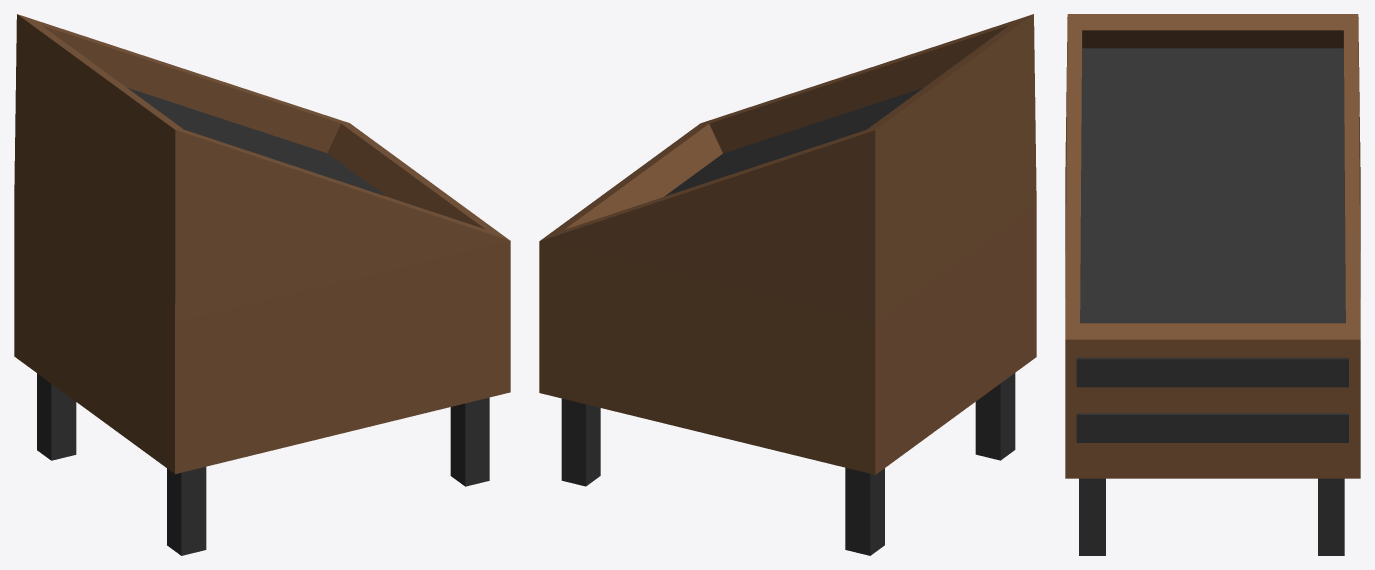
The model's file is S.FruitVegStand 1.fbx.
3 renders of one model, left to right at view 1: azimuth 30°, elevation 25°; view 2: azimuth 150°, elevation 25°; view 3: azimuth 270°, elevation 25°, orthographic. The views are drawn at different scales.
Parts seen in each view (by area): view 1: Fruit Stand; view 2: Fruit Stand; view 3: Fruit Stand.
Part boxes in pixels (x1,y1,x2,y2): Fruit Stand: [14, 14, 510, 555]; Fruit Stand: [539, 14, 1036, 555]; Fruit Stand: [1065, 14, 1360, 555].
Bounding box in the file's own units: 294 × 360 × 242.
